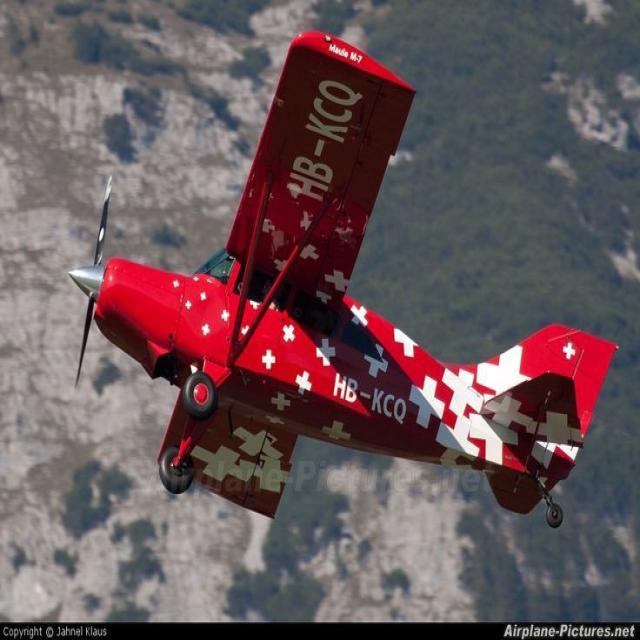iha: (66, 28, 620, 532)
